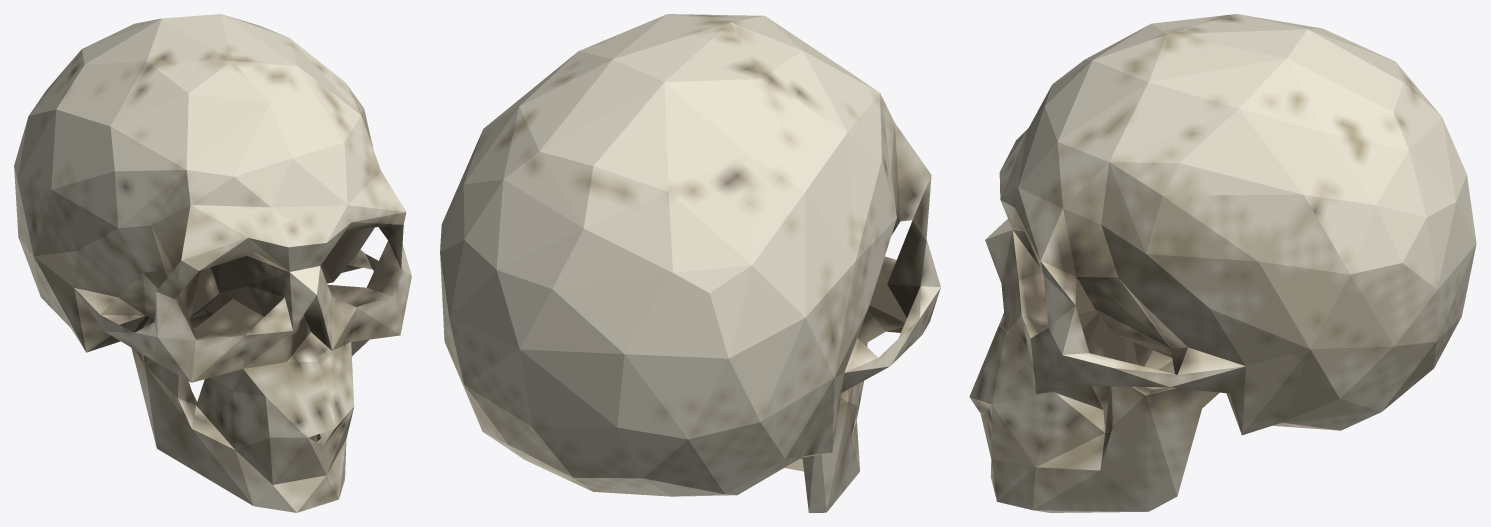
The model's file is SM_MeshySkull.fbx.
3 renders of one model, left to right at view 1: azimuth 30°, elevation 25°; view 2: azimuth 150°, elevation 25°; view 3: azimuth 270°, elevation 25°, orthographic. The views are drawn at different scales.
Visible parts, largest first — view 1: SM_MeshySkull; view 2: SM_MeshySkull; view 3: SM_MeshySkull.
Part boxes in pixels (x1,y1,x2,y2): SM_MeshySkull: (14,14,411,512); SM_MeshySkull: (440,14,940,512); SM_MeshySkull: (969,14,1476,512).
Bounding box in the file's own units: 0.3851 × 0.4927 × 0.5019.
Materials: 1 (1 with a texture image).
